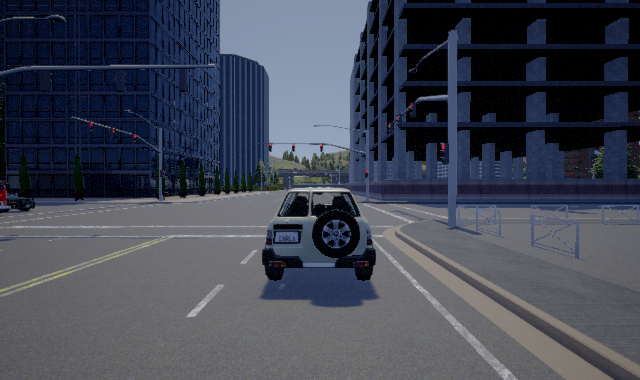traffic_light: (439, 143, 449, 165), (408, 102, 416, 118), (87, 122, 94, 134), (396, 114, 402, 128), (110, 128, 116, 139), (388, 122, 393, 134), (132, 134, 137, 144), (160, 170, 165, 178), (365, 170, 370, 178), (320, 143, 323, 152), (292, 143, 295, 152), (269, 143, 272, 152)
vehicle: (261, 186, 376, 281), (1, 189, 34, 213)
